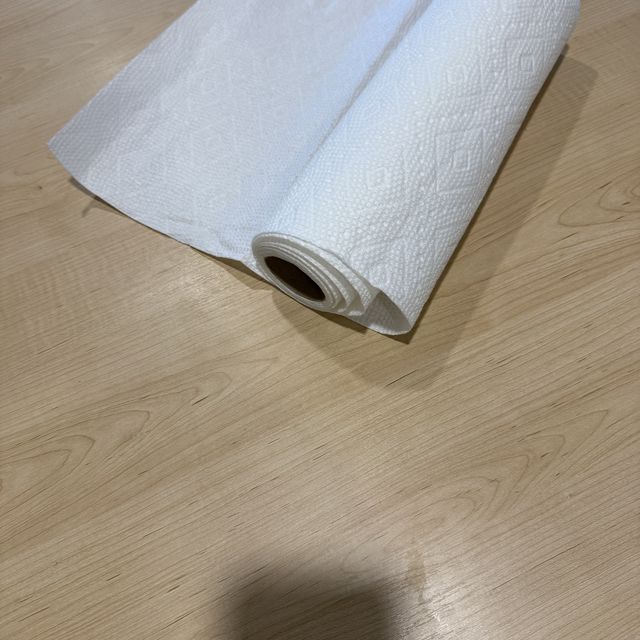Paper Towel: (53, 12, 583, 322)
